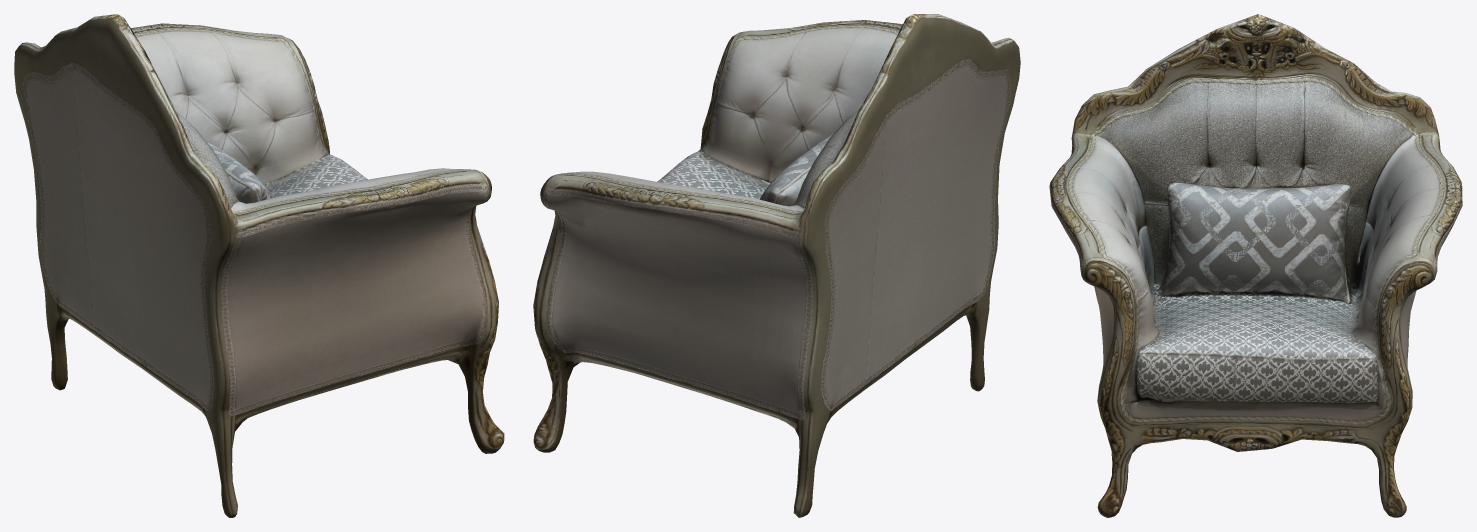
3 views of the same model, side by side, from view 1: azimuth 30°, elevation 25°; view 2: azimuth 150°, elevation 25°; view 3: azimuth 270°, elevation 25° (orthographic). The views are drawn at different scales.
Visible parts, largest first — view 1: beshr_lp; view 2: beshr_lp; view 3: beshr_lp.
Part boxes in pixels (bbox=[...]): beshr_lp: bbox=[14, 14, 504, 517]; beshr_lp: bbox=[533, 14, 1020, 517]; beshr_lp: bbox=[1049, 14, 1462, 517].
Size of the model in its own units: 2.1 by 2.92 by 2.85.
1 material, 1 textured.
